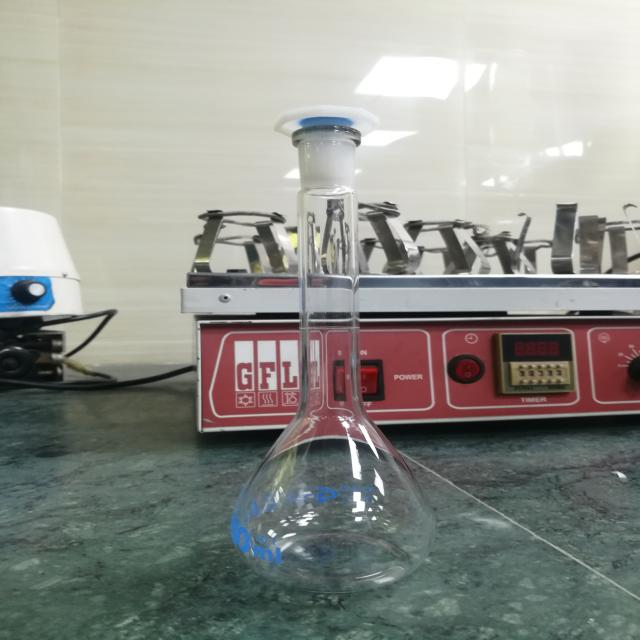Volumetric_Flask: (211, 94, 473, 616)
